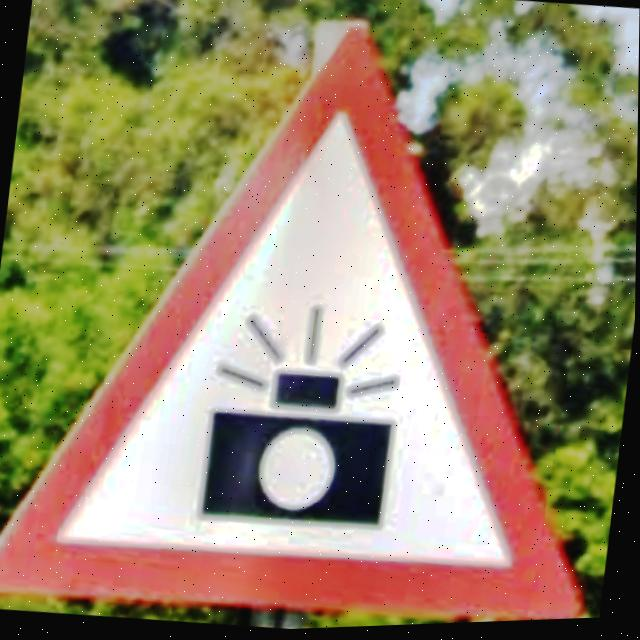speedcamera: (0, 25, 579, 625)
